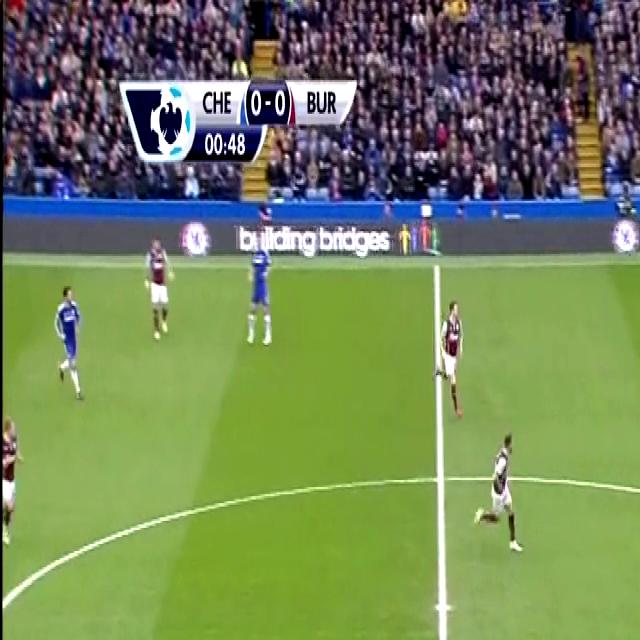soccer-player: (130, 220, 186, 360), (478, 417, 523, 559), (49, 270, 90, 414), (430, 288, 470, 425), (239, 225, 279, 356), (2, 409, 24, 557)
